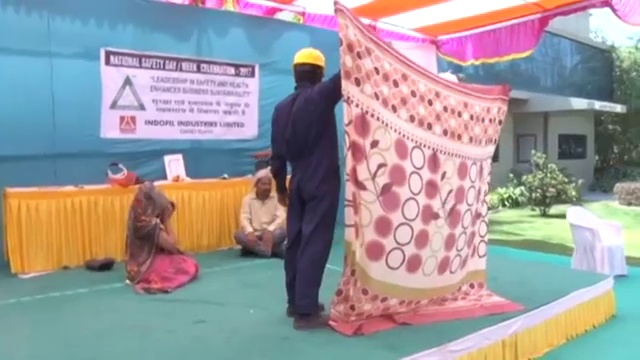helmet: (291, 45, 327, 69)
helmet_off: (136, 181, 163, 212), (252, 168, 274, 201)
helmet_on: (289, 44, 328, 90)
person: (271, 45, 348, 330), (120, 180, 198, 293), (231, 165, 290, 260)
